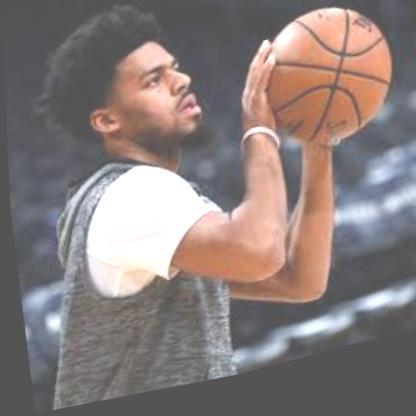basketball: (261, 9, 396, 167)
